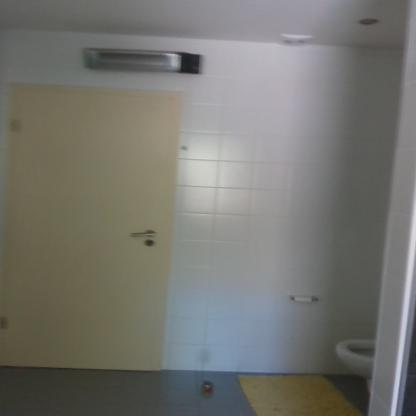door: (15, 90, 166, 370)
hinged: (0, 316, 8, 330), (12, 118, 18, 134)
lever: (128, 229, 158, 237)
